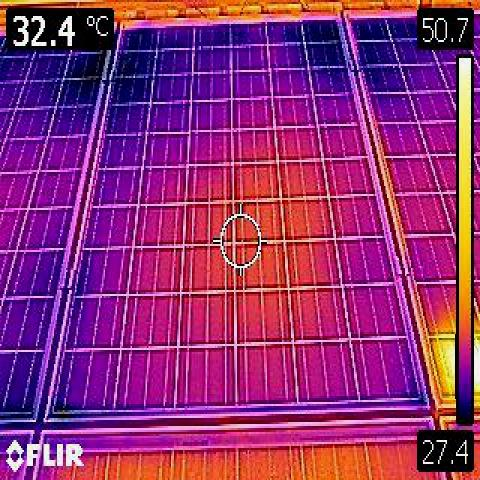fault: (430, 334, 458, 399)
